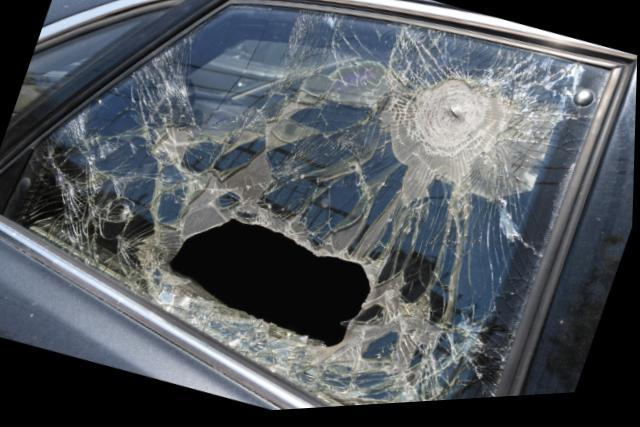glass shatter: (0, 8, 612, 411)
